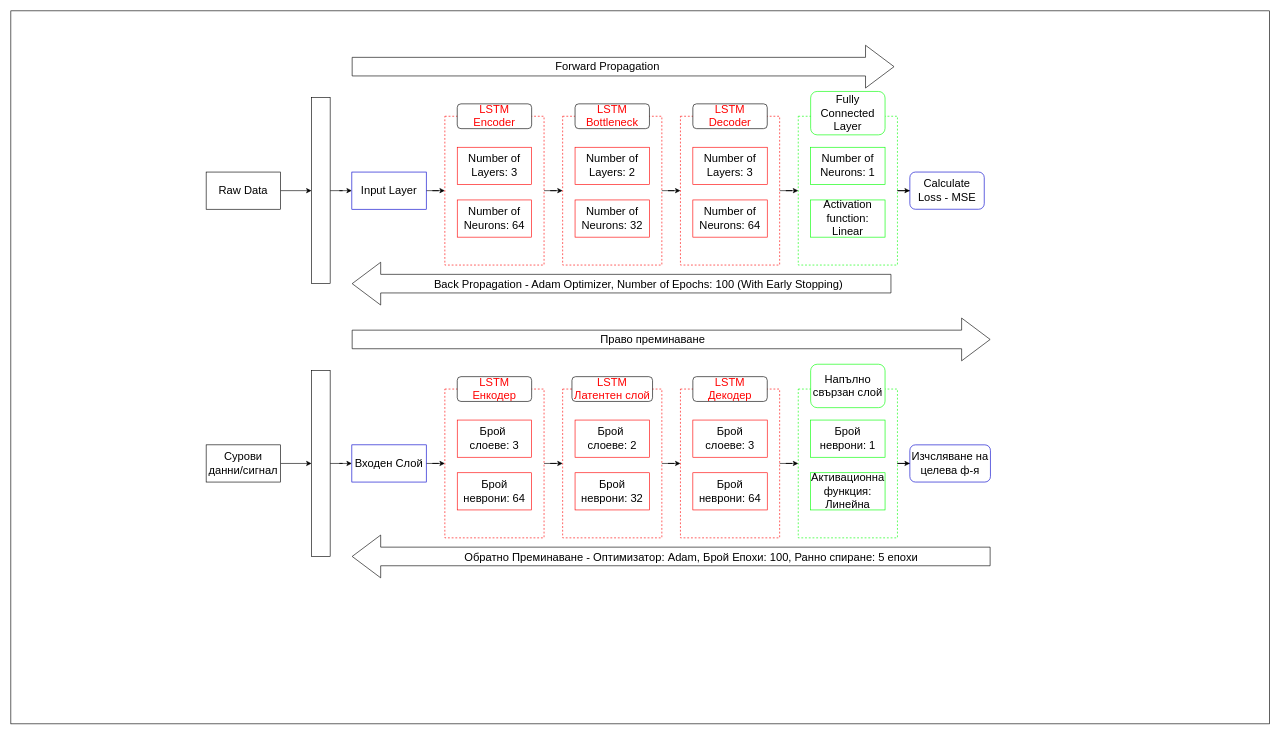
This 1280x735 diagram has some shape labels left out. The shapes that lost their labels are listed below. From the top down, each one's box as (x1, y1, x2, y2) in pixels, then its label:
(311, 97, 330, 284): Preprocessing
(311, 370, 330, 556): Обработка
